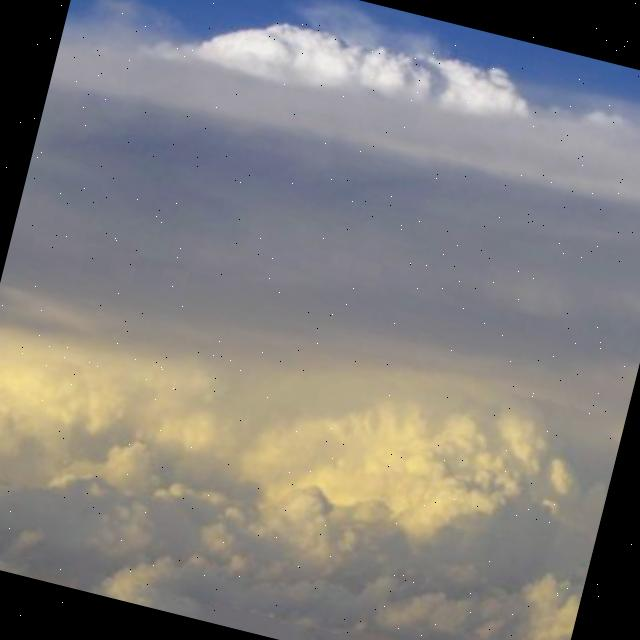Cb: (1, 13, 640, 640)
